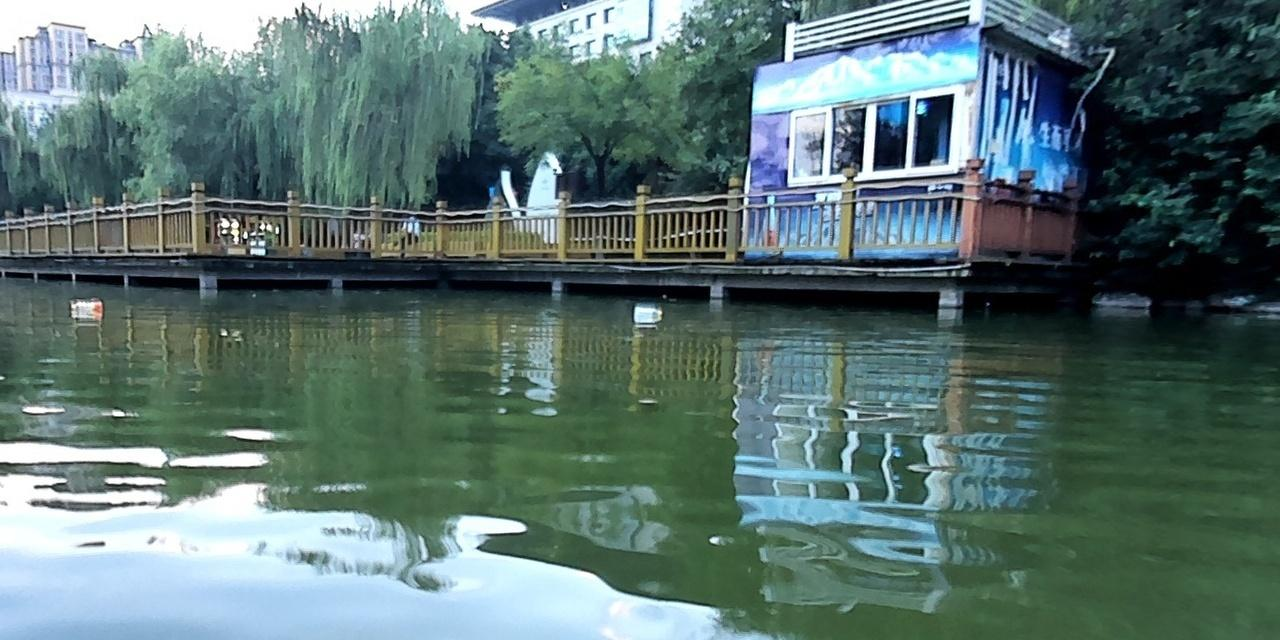bottle: (68, 298, 102, 315), (632, 304, 662, 322)
